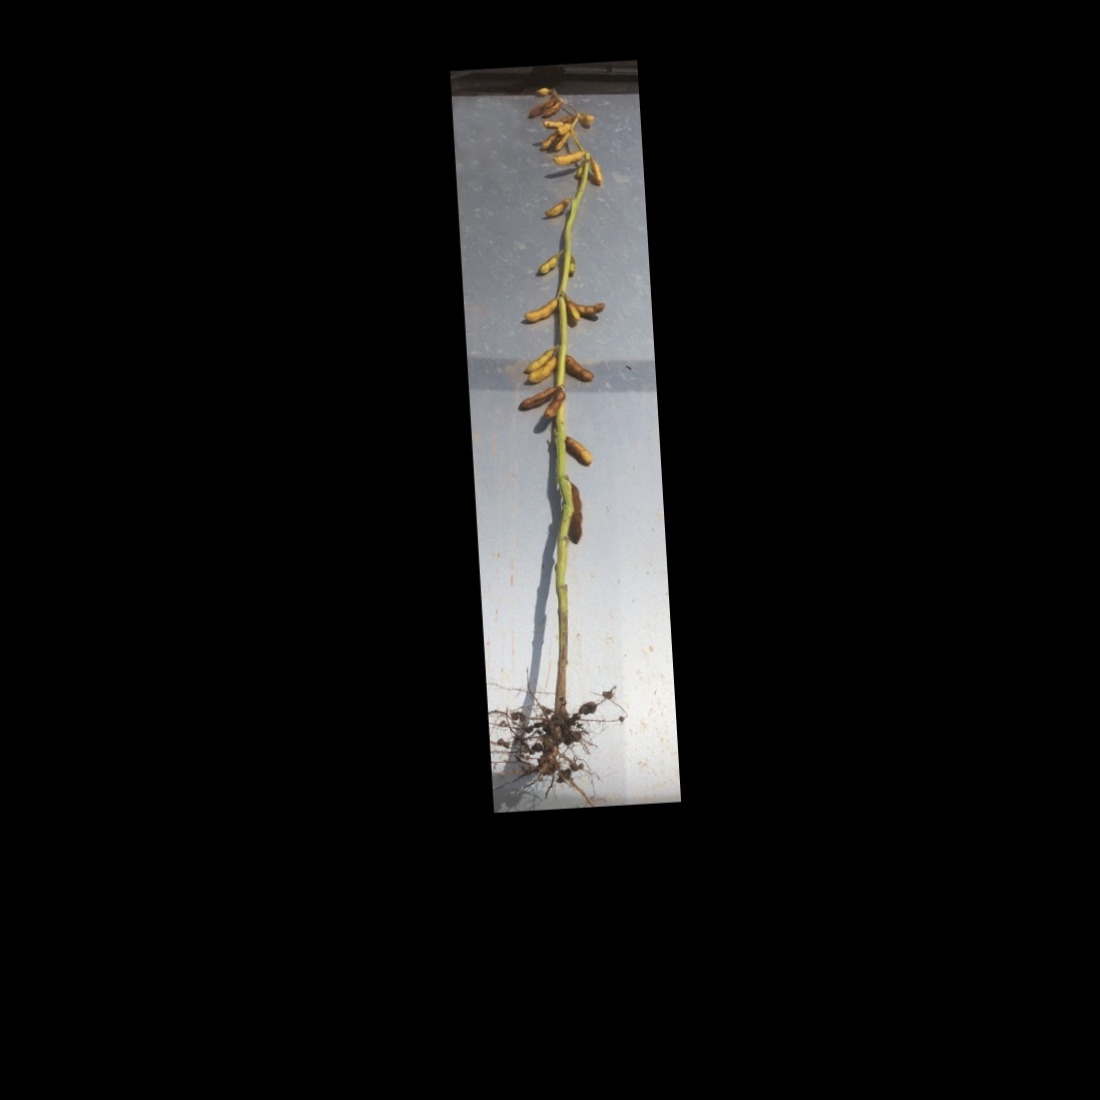pod: (562, 477, 587, 545), (510, 379, 558, 412), (560, 350, 597, 385), (521, 298, 562, 326), (561, 433, 592, 468), (542, 389, 571, 420), (549, 147, 584, 168), (533, 254, 562, 276), (541, 196, 572, 217), (589, 154, 605, 188), (575, 107, 599, 129), (539, 116, 564, 130), (531, 84, 552, 100), (567, 250, 577, 278)
soy: (462, 67, 666, 798)
